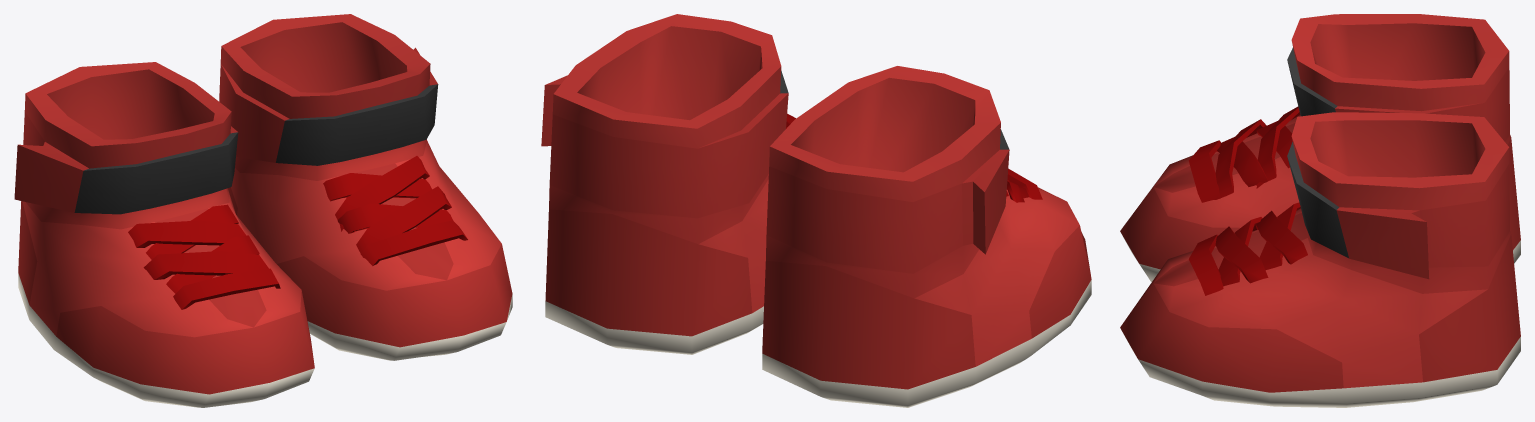
Rendered from Shoes_31.fbx.
The picture shows the model from 3 angles, left to right: view 1: azimuth 30°, elevation 25°; view 2: azimuth 150°, elevation 25°; view 3: azimuth 270°, elevation 25°; orthographic projection. The views are drawn at different scales.
Visible parts, largest first — view 1: Shoes_31; view 2: Shoes_31; view 3: Shoes_31.
Boxes of the visible parts, x1,y1,x2,y2 form: Shoes_31: [14, 14, 512, 407]; Shoes_31: [541, 14, 1091, 407]; Shoes_31: [1120, 14, 1520, 407].
Bounding box in the file's own units: 42.3 × 22.05 × 35.65.
